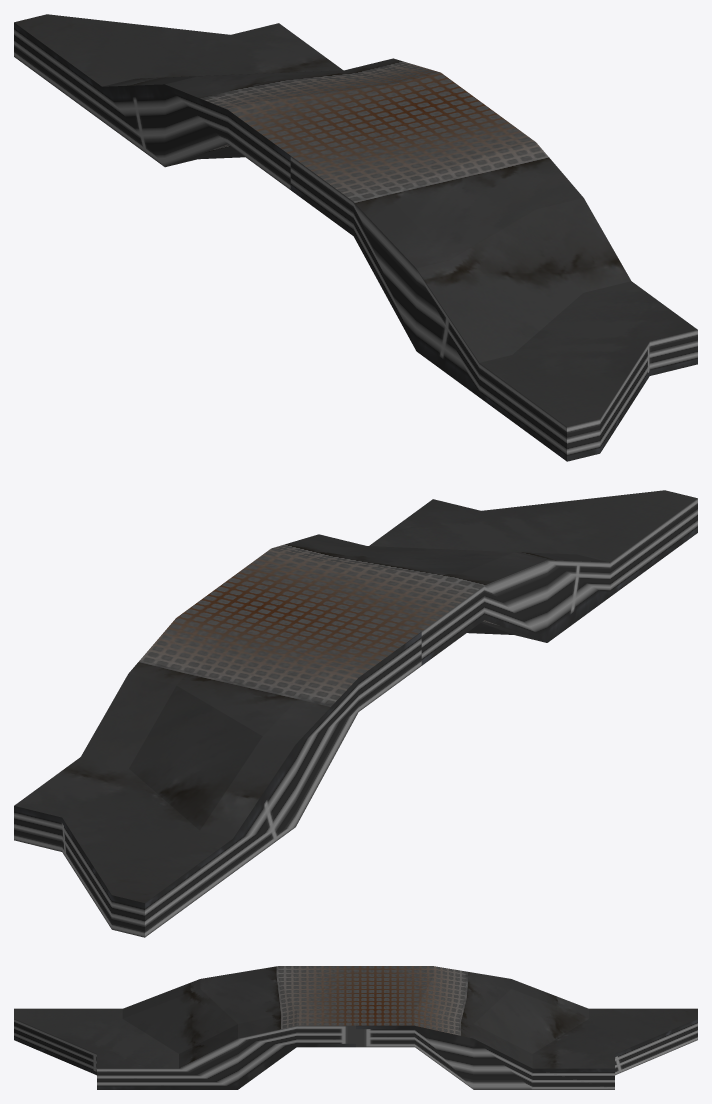
The model's file is SM_Roof_C_End.fbx.
3 renders of one model, top to bottom at view 1: azimuth 30°, elevation 25°; view 2: azimuth 150°, elevation 25°; view 3: azimuth 270°, elevation 25°, orthographic. The views are drawn at different scales.
Visible parts, largest first — view 1: Roof_C_End; view 2: Roof_C_End; view 3: Roof_C_End.
Boxes of the visible parts, box(x1,y1,x2,y2) form: Roof_C_End: box(14, 14, 697, 461); Roof_C_End: box(14, 490, 697, 937); Roof_C_End: box(14, 966, 697, 1089).
Bounding box in the file's own units: 0.5996 × 0.3 × 2.9.
